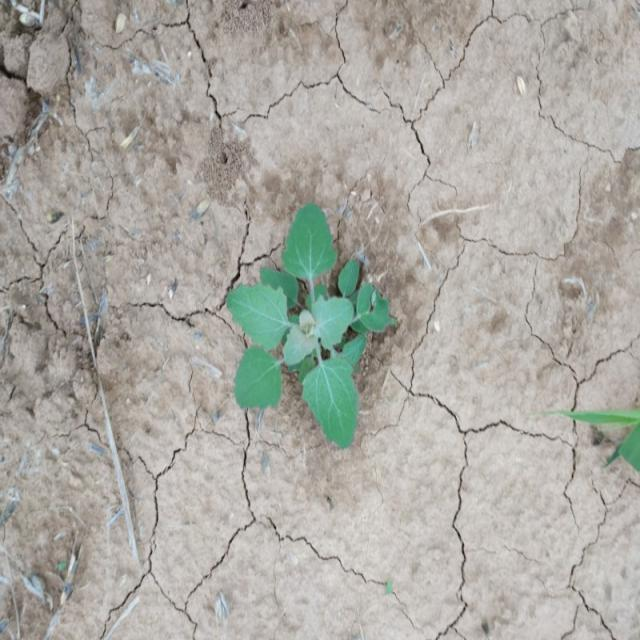goosefoots: (207, 200, 391, 454)
